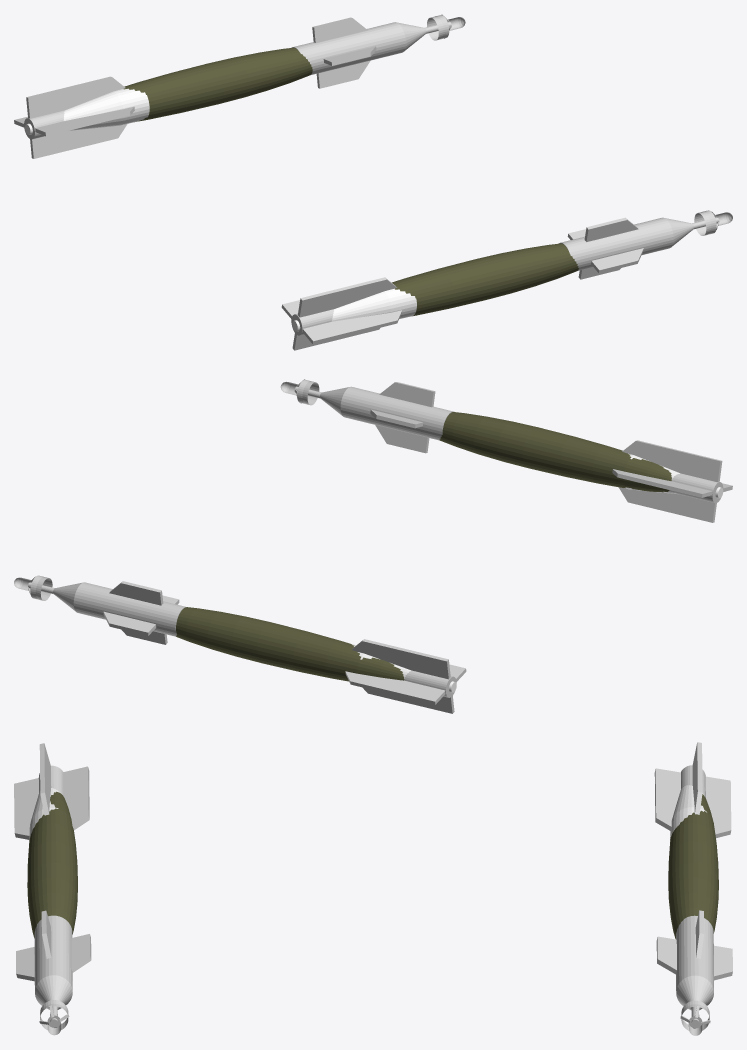
Rendered from f15egbu12410.glb.
3 renders of one model, top to bottom at view 1: azimuth 30°, elevation 25°; view 2: azimuth 150°, elevation 25°; view 3: azimuth 270°, elevation 25°, orthographic. The views are drawn at different scales.
Visible parts, largest first — view 1: 円柱.023, 円柱.025; view 2: 円柱.025, 円柱.023; view 3: 円柱.023, 円柱.025.
Boxes of the visible parts, bbox=[...] form: 円柱.023: bbox=[14, 14, 465, 158]; 円柱.025: bbox=[281, 210, 732, 350]; 円柱.025: bbox=[280, 379, 732, 522]; 円柱.023: bbox=[14, 575, 466, 713]; 円柱.023: bbox=[654, 742, 732, 1035]; 円柱.025: bbox=[14, 743, 91, 1035].
Size of the model in its own units: 3.69 by 0.464 by 4.36.
2 materials, 1 textured.
